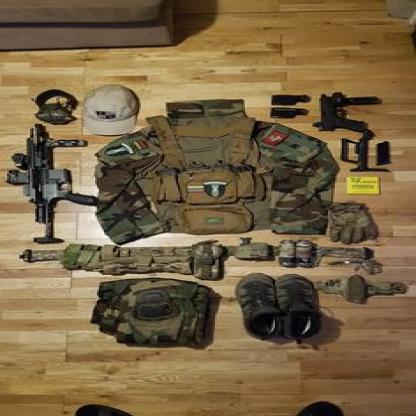Grenade: (296, 238, 315, 268), (279, 238, 295, 268)
Gun: (6, 123, 97, 245)
Pistol: (315, 90, 382, 132)
